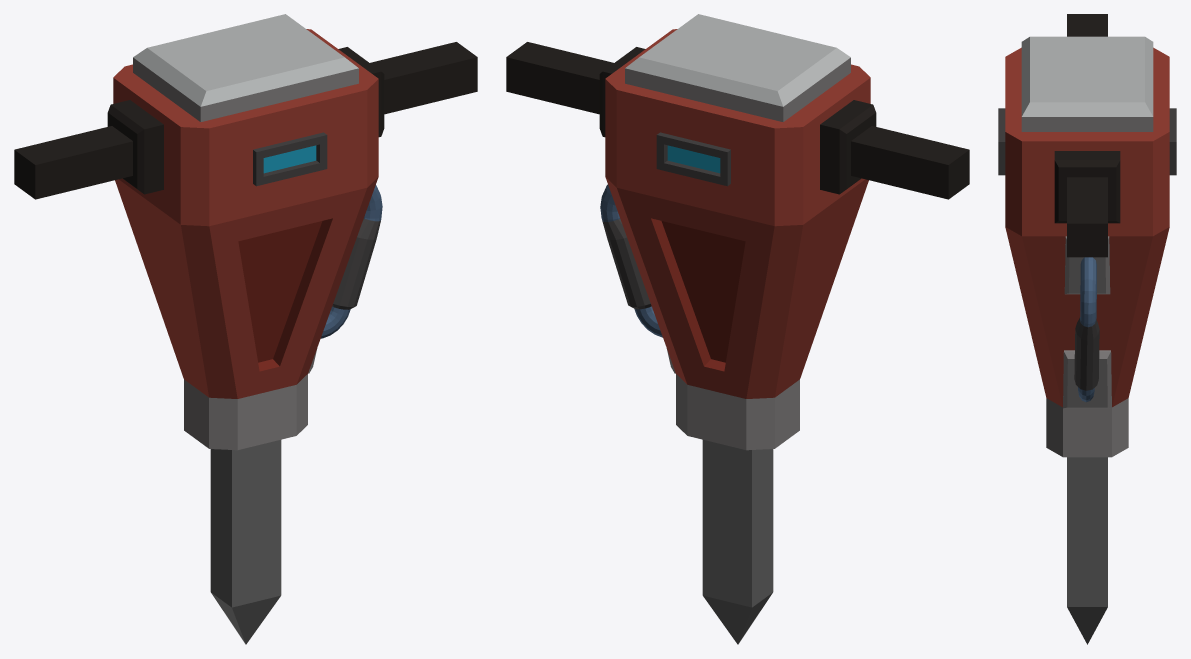
File: ImprovedDrill.fbx
3 renders of one model, left to right at view 1: azimuth 30°, elevation 25°; view 2: azimuth 150°, elevation 25°; view 3: azimuth 270°, elevation 25°, orthographic. The views are drawn at different scales.
Parts seen in each view (by area): view 1: ImprovedDrill; view 2: ImprovedDrill; view 3: ImprovedDrill.
Part boxes in pixels (left/top/right/bottom): ImprovedDrill: left=14, top=14, right=477, bottom=644; ImprovedDrill: left=506, top=14, right=969, bottom=644; ImprovedDrill: left=998, top=14, right=1176, bottom=644.
Size of the model in its own units: 181 by 232 by 65.
